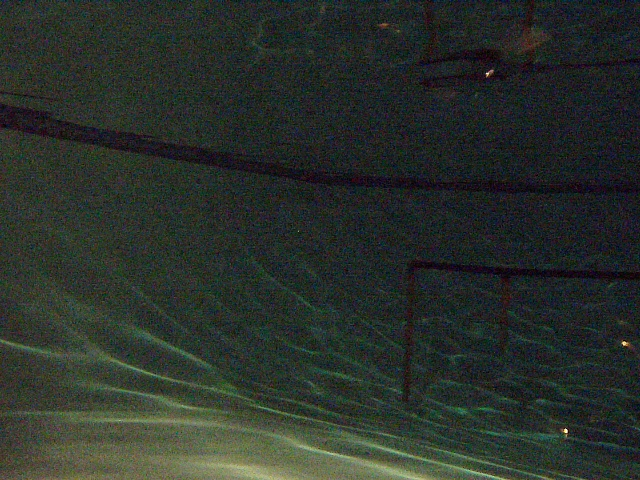Gate: (401, 271, 416, 404), (497, 273, 515, 356)
